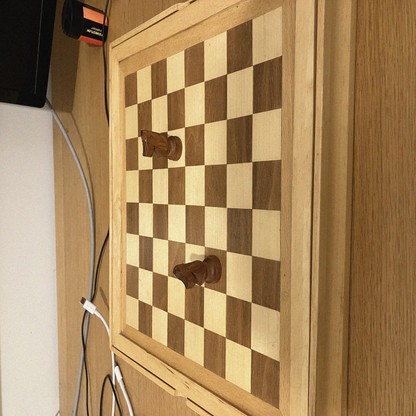knight_black: (175, 257, 222, 286), (141, 130, 181, 160)
